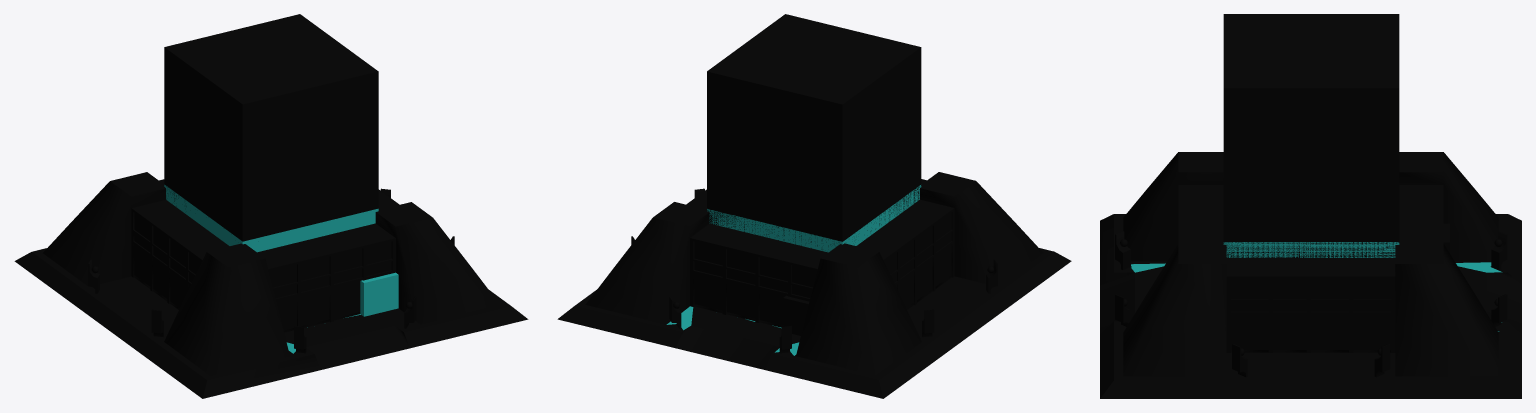
Rendered from zo_bt_monastere.max.fobj.obj.
3 renders of one model, left to right at view 1: azimuth 30°, elevation 25°; view 2: azimuth 150°, elevation 25°; view 3: azimuth 270°, elevation 25°, orthographic. The views are drawn at different scales.
Visible parts, largest first — view 1: ZO_bt_monastere_exterieur, initialShadingGroup zo_cluster_monastere_haut, initialShadingGroup zo_cluster_monastere_interieur, initialShadingGroup zo_cluster_monastere_entreFBXASC045AFBXASC04; view 2: ZO_bt_monastere_exterieur, initialShadingGroup zo_cluster_monastere_haut, initialShadingGroup zo_cluster_monastere_interieur, initialShadingGroup zo_cluster_monastere_entreFBXASC045BFBXASC04; view 3: ZO_bt_monastere_exterieur, initialShadingGroup zo_cluster_monastere_haut, initialShadingGroup zo_cluster_monastere_interieur, ZO_monastere_colinterieur.
Part boxes in pixels (bbox=[...]): ZO_bt_monastere_exterieur: bbox=[14, 172, 528, 398]; initialShadingGroup zo_cluster_monastere_haut: bbox=[164, 14, 378, 241]; initialShadingGroup zo_cluster_monastere_interieur: bbox=[164, 184, 378, 252]; initialShadingGroup zo_cluster_monastere_entreFBXASC045AFBXASC04: bbox=[360, 272, 398, 316]; ZO_bt_monastere_exterieur: bbox=[557, 172, 1071, 398]; initialShadingGroup zo_cluster_monastere_haut: bbox=[707, 14, 921, 249]; initialShadingGroup zo_cluster_monastere_interieur: bbox=[707, 185, 921, 252]; initialShadingGroup zo_cluster_monastere_entreFBXASC045BFBXASC04: bbox=[783, 295, 809, 335]; ZO_bt_monastere_exterieur: bbox=[1100, 152, 1521, 398]; initialShadingGroup zo_cluster_monastere_haut: bbox=[1223, 14, 1399, 257]; initialShadingGroup zo_cluster_monastere_interieur: bbox=[1223, 242, 1399, 257]; ZO_monastere_colinterieur: bbox=[1131, 262, 1502, 331].
Size of the model in its own units: 3000 by 2030 by 3000.
